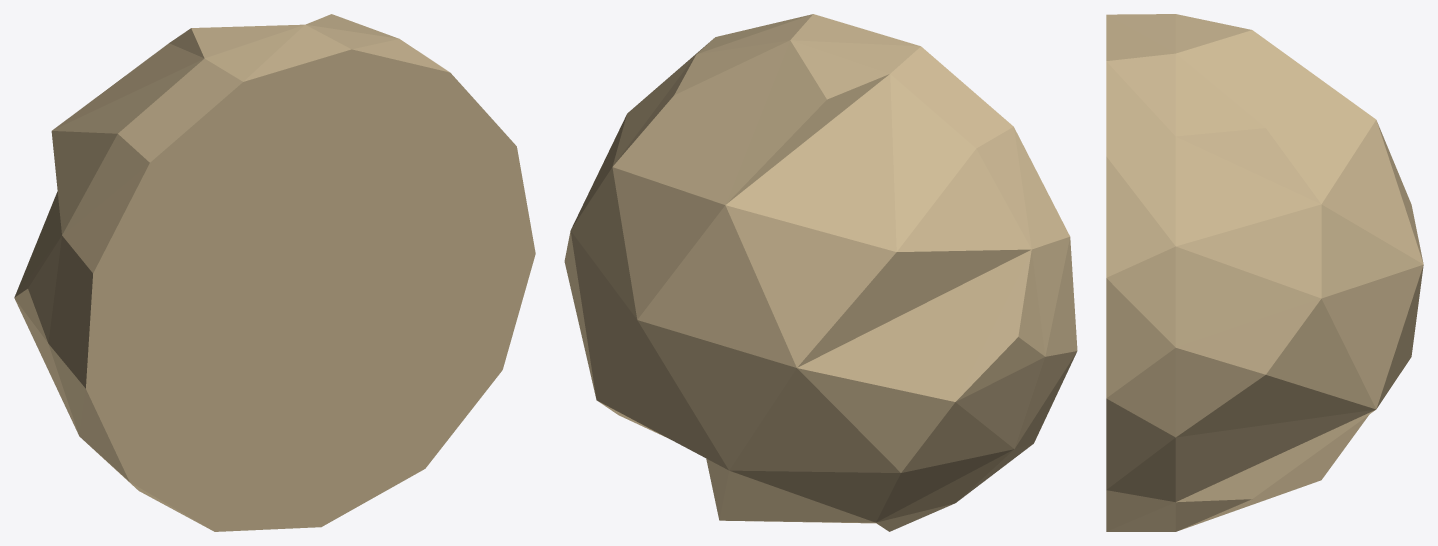
File: dough.glb
The picture shows the model from 3 angles, left to right: view 1: azimuth 30°, elevation 25°; view 2: azimuth 150°, elevation 25°; view 3: azimuth 270°, elevation 25°; orthographic projection.
Parts seen in each view (by area): view 1: geometry_0; view 2: geometry_0; view 3: geometry_0.
Part boxes in pixels (x1,y1,x2,y2): geometry_0: (14,14,535,531); geometry_0: (564,14,1077,531); geometry_0: (1106,14,1423,531).
Bounding box in the file's own units: 0.0748 × 0.0746 × 0.0457.
